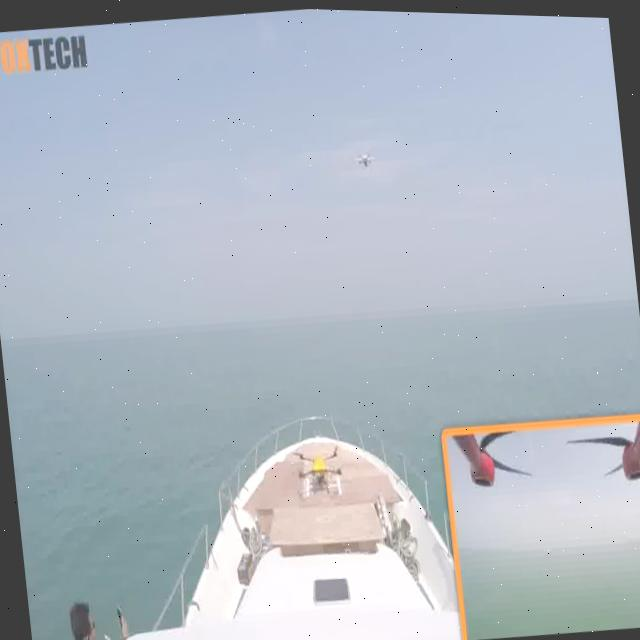drone: (286, 415, 352, 497), (349, 127, 383, 171)
